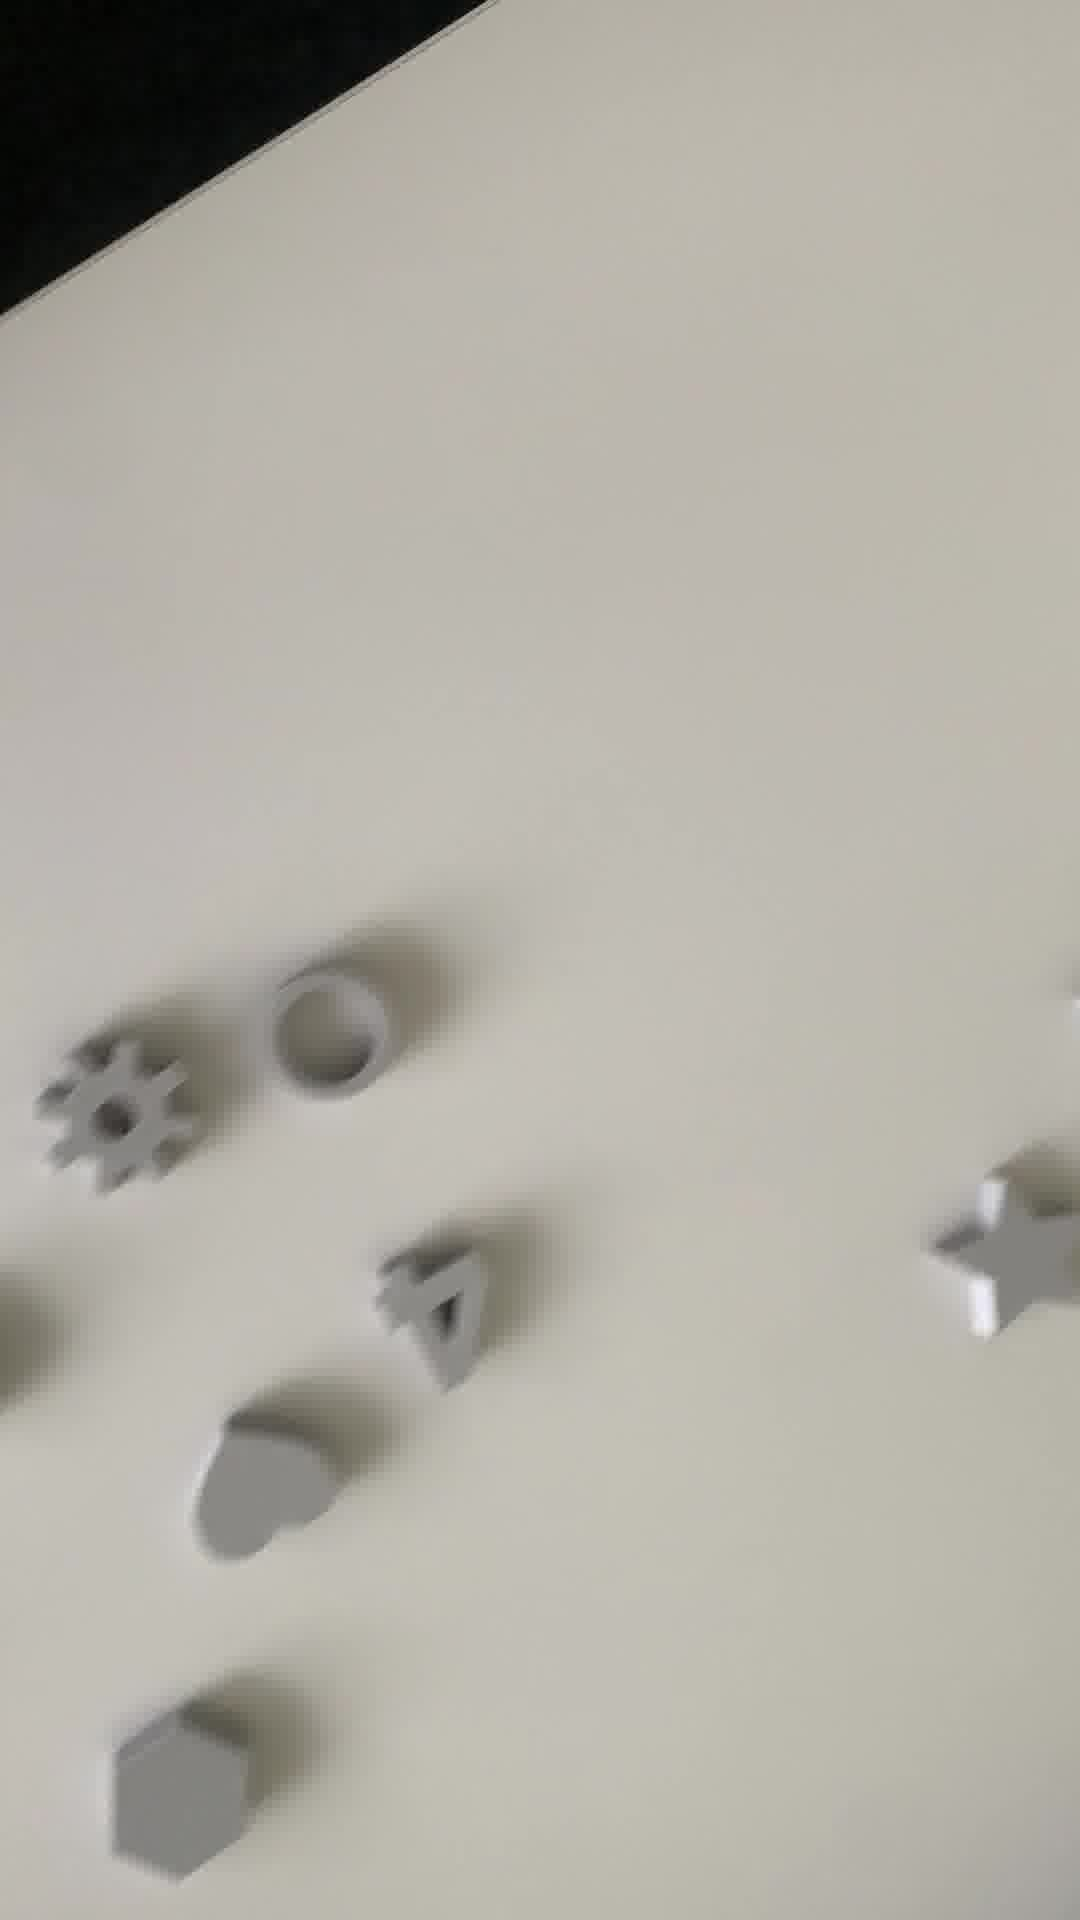Gray four: (375, 1240, 496, 1403)
Gray gear: (44, 1034, 198, 1207)
Gray heart: (182, 1404, 343, 1565)
Gray hexagon: (100, 1704, 269, 1888)
Gray ring: (257, 961, 400, 1112)
Gray star: (924, 1164, 1077, 1344)
